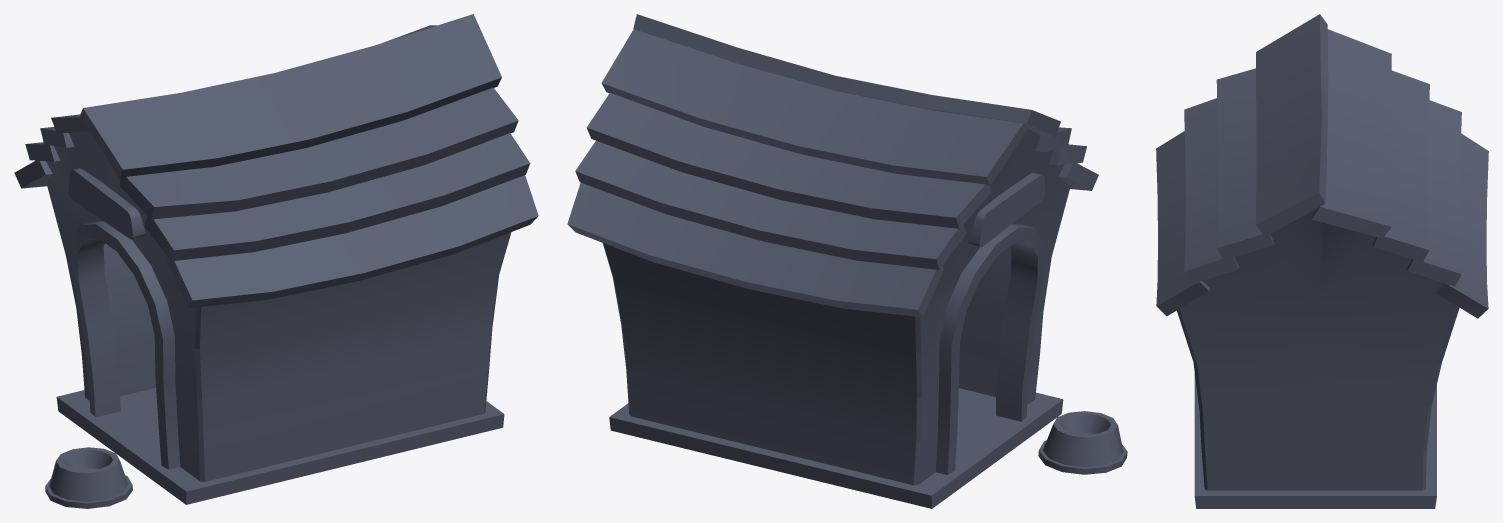
The model's file is DogHouse.FBX.
3 renders of one model, left to right at view 1: azimuth 30°, elevation 25°; view 2: azimuth 150°, elevation 25°; view 3: azimuth 270°, elevation 25°, orthographic. The views are drawn at different scales.
Visible parts, largest first — view 1: DogHouse; view 2: DogHouse; view 3: DogHouse.
Part boxes in pixels (left/top/right/bottom): DogHouse: left=14, top=14, right=538, bottom=508; DogHouse: left=567, top=14, right=1127, bottom=508; DogHouse: left=1156, top=14, right=1488, bottom=508.
Size of the model in its own units: 173 by 131 by 118.
